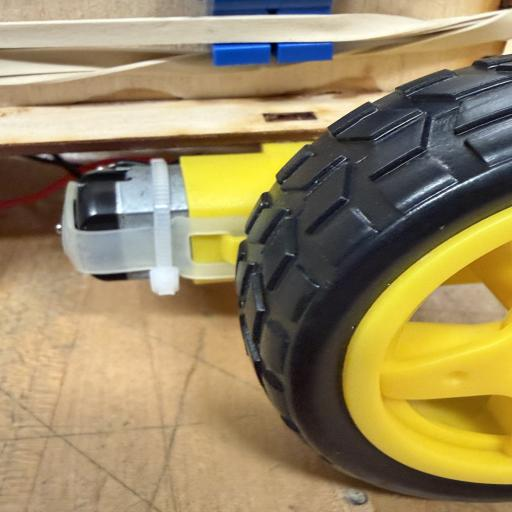Blue-Lego: (212, 41, 334, 66), (207, 0, 333, 16)
